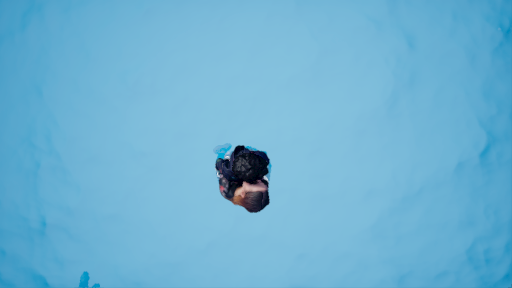person: (213, 142, 282, 214)
